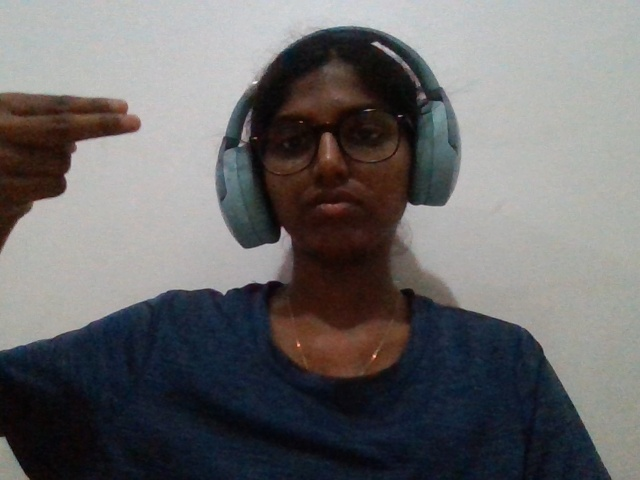H: (1, 53, 166, 290)
